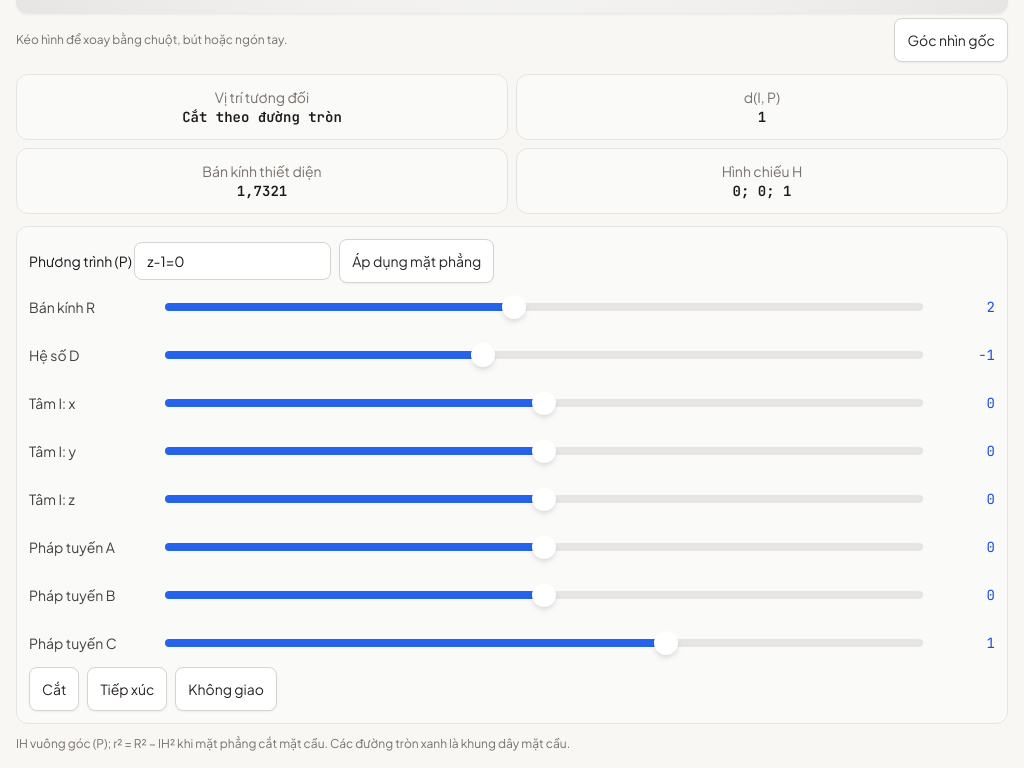
Test case: Điều khiển và trạng thái biên › Oxyz đổi cắt / tiếp xúc / không giao, báo pháp tuyến 0
The image size is (1024, 768).
(page scrolled)
Click the button "Tiếp xúc": (127, 689) [87,667,167,711]
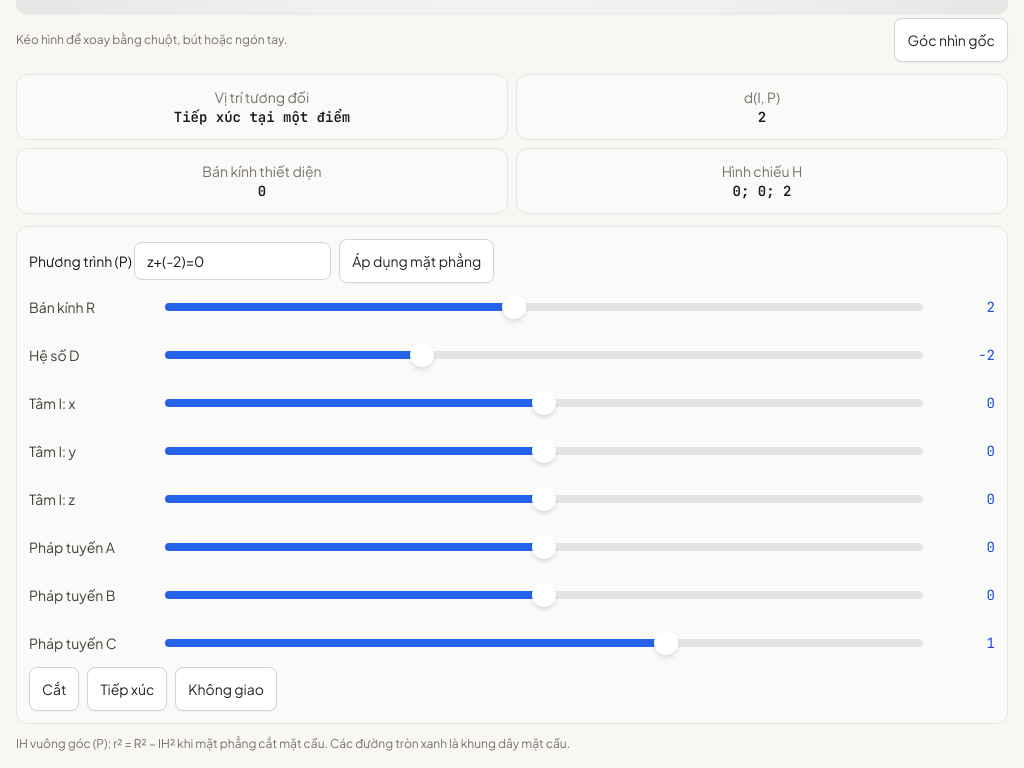
Click the button "Không giao": (226, 689) [175,667,277,711]
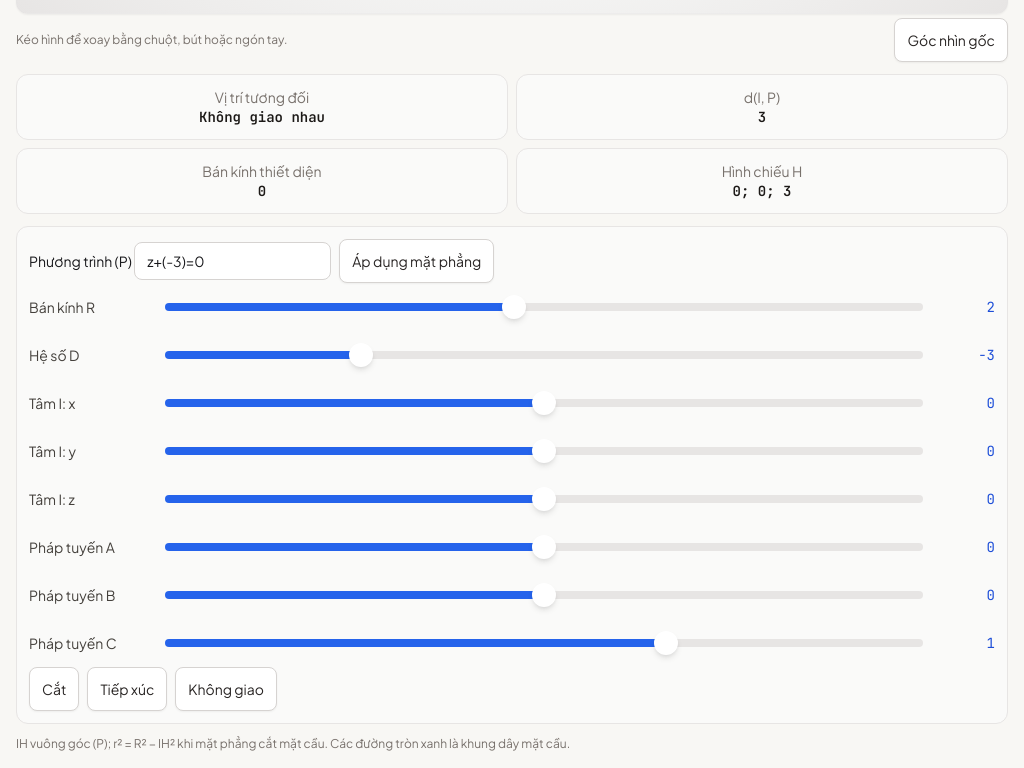
Set the slider with test id "ox-normal-2" to "0": (544, 643) [165,639,923,647]
(page scrolled)
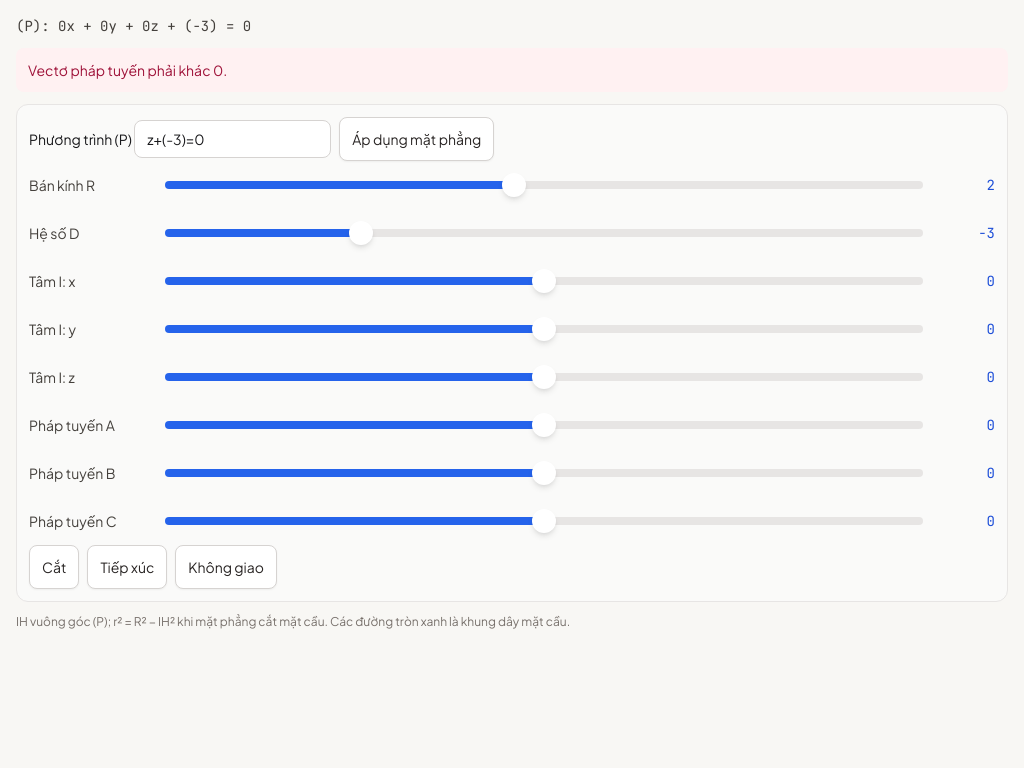
Expected: the message shows "pháp tuyến", [28,61,227,79]
